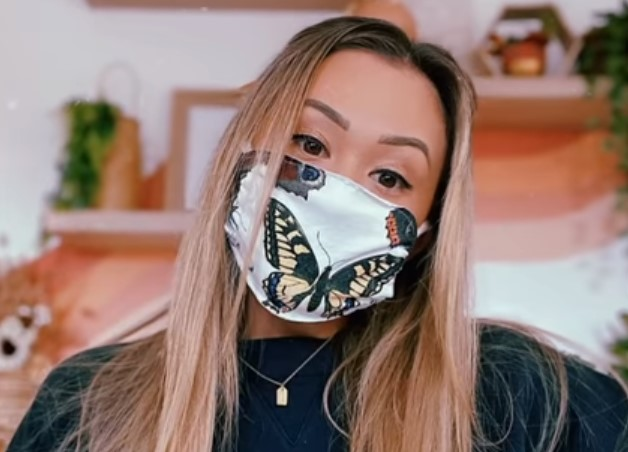face_with_mask: (216, 21, 469, 327)
